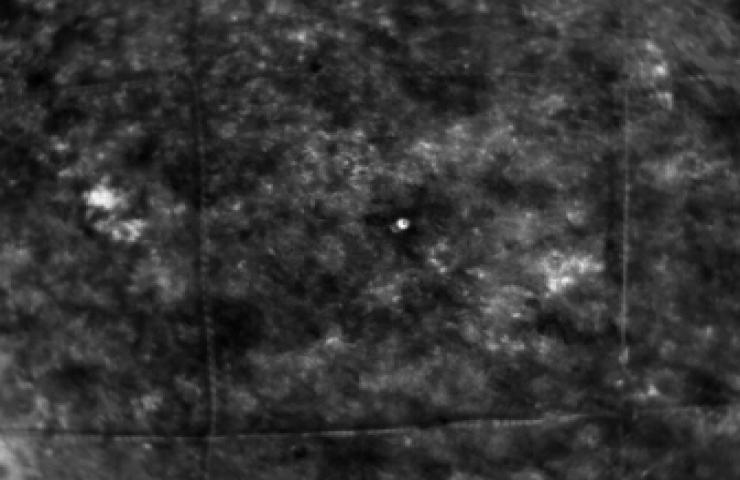landmines: (387, 216, 413, 238)
